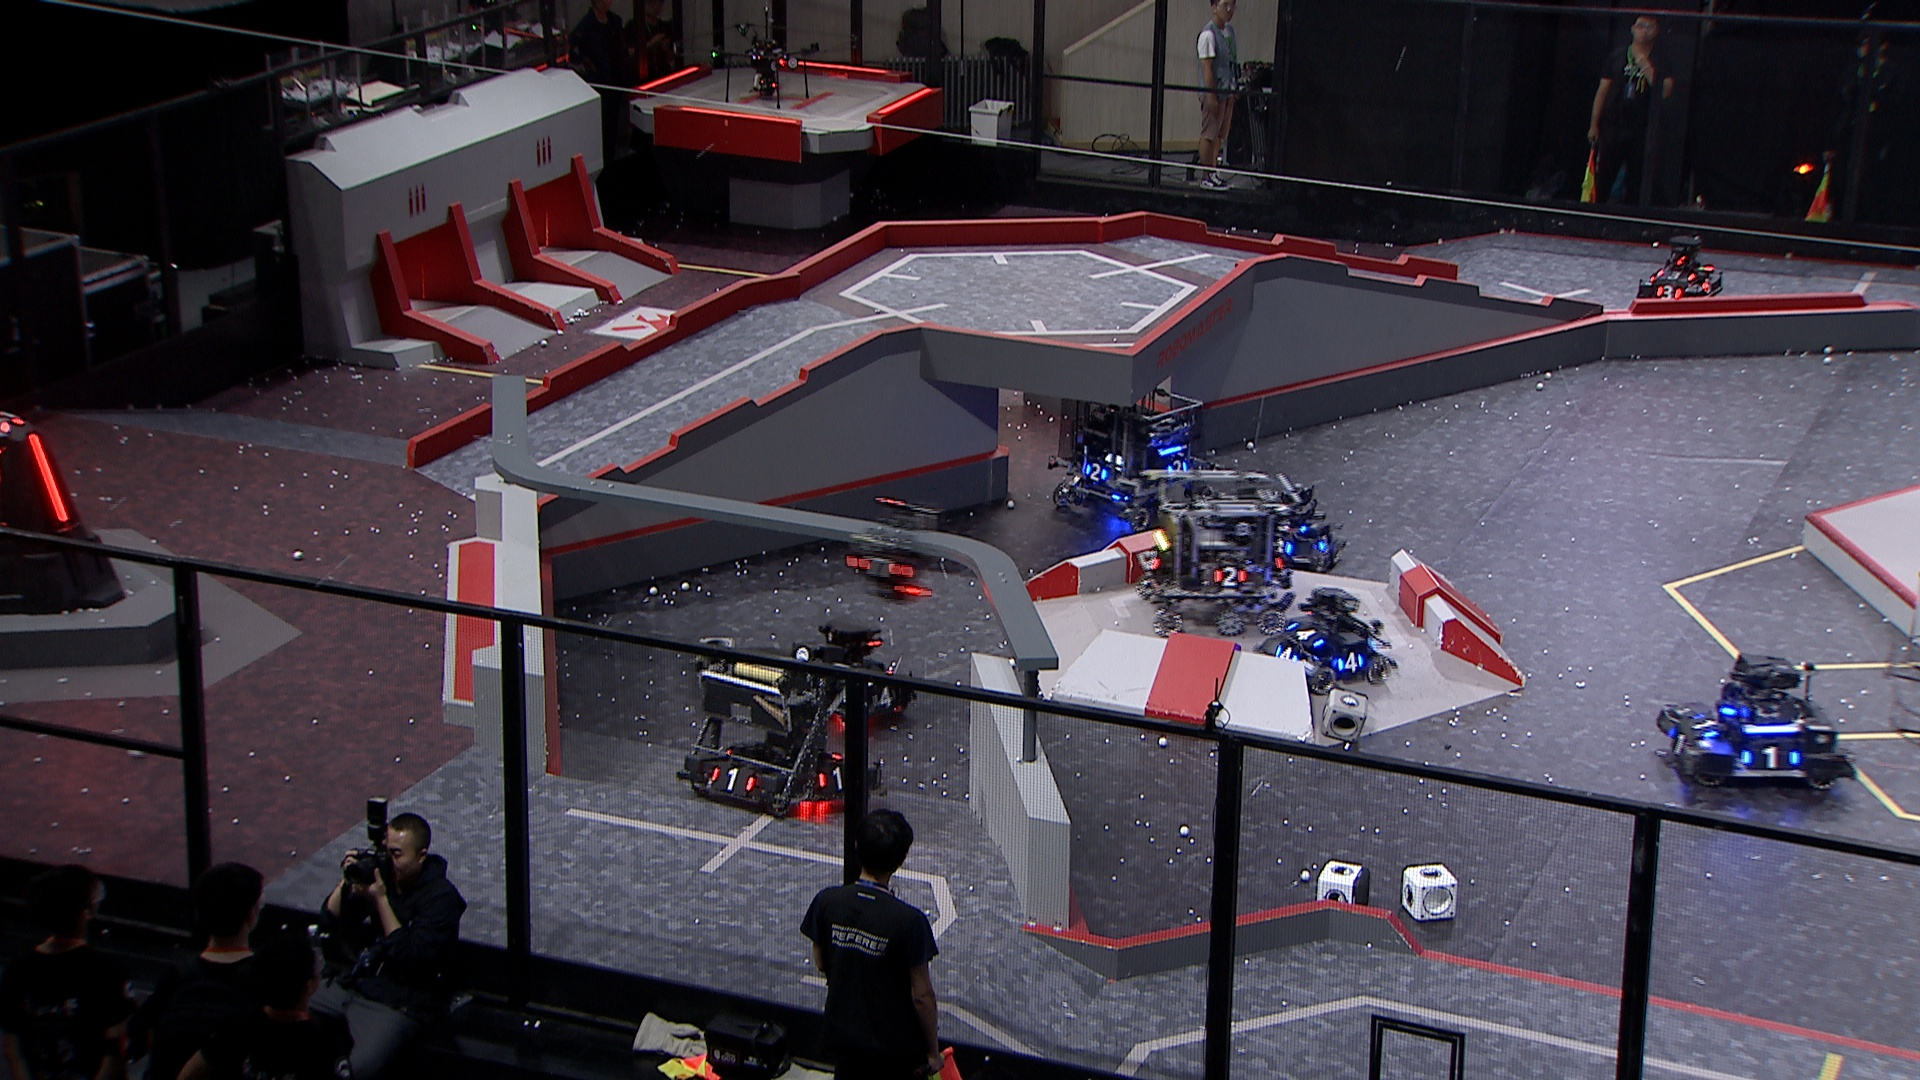armor: (24, 429, 69, 522), (847, 551, 913, 583), (1742, 741, 1799, 769), (711, 765, 757, 796), (1664, 719, 1695, 761), (1287, 618, 1327, 650), (1211, 560, 1249, 591), (814, 764, 852, 793), (1652, 262, 1698, 284), (1692, 709, 1722, 741), (868, 684, 899, 712), (1652, 282, 1687, 305), (1335, 651, 1366, 675), (1141, 547, 1164, 576), (1083, 463, 1110, 485), (1271, 646, 1299, 669), (1319, 531, 1337, 553), (1698, 273, 1716, 295)
car: (684, 636, 884, 808), (1120, 467, 1292, 638), (1652, 650, 1859, 793), (1054, 377, 1211, 529), (782, 617, 916, 728), (1258, 584, 1389, 692), (1225, 477, 1352, 572), (1633, 233, 1724, 309)
watcher: (840, 495, 942, 599)
